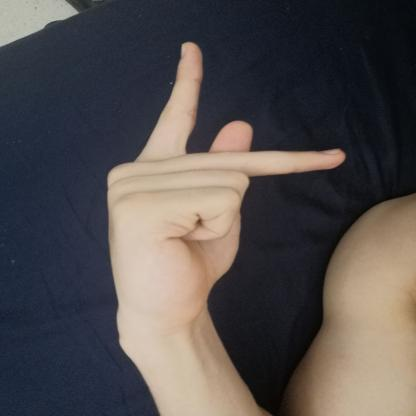DHAA: (82, 32, 363, 344)
